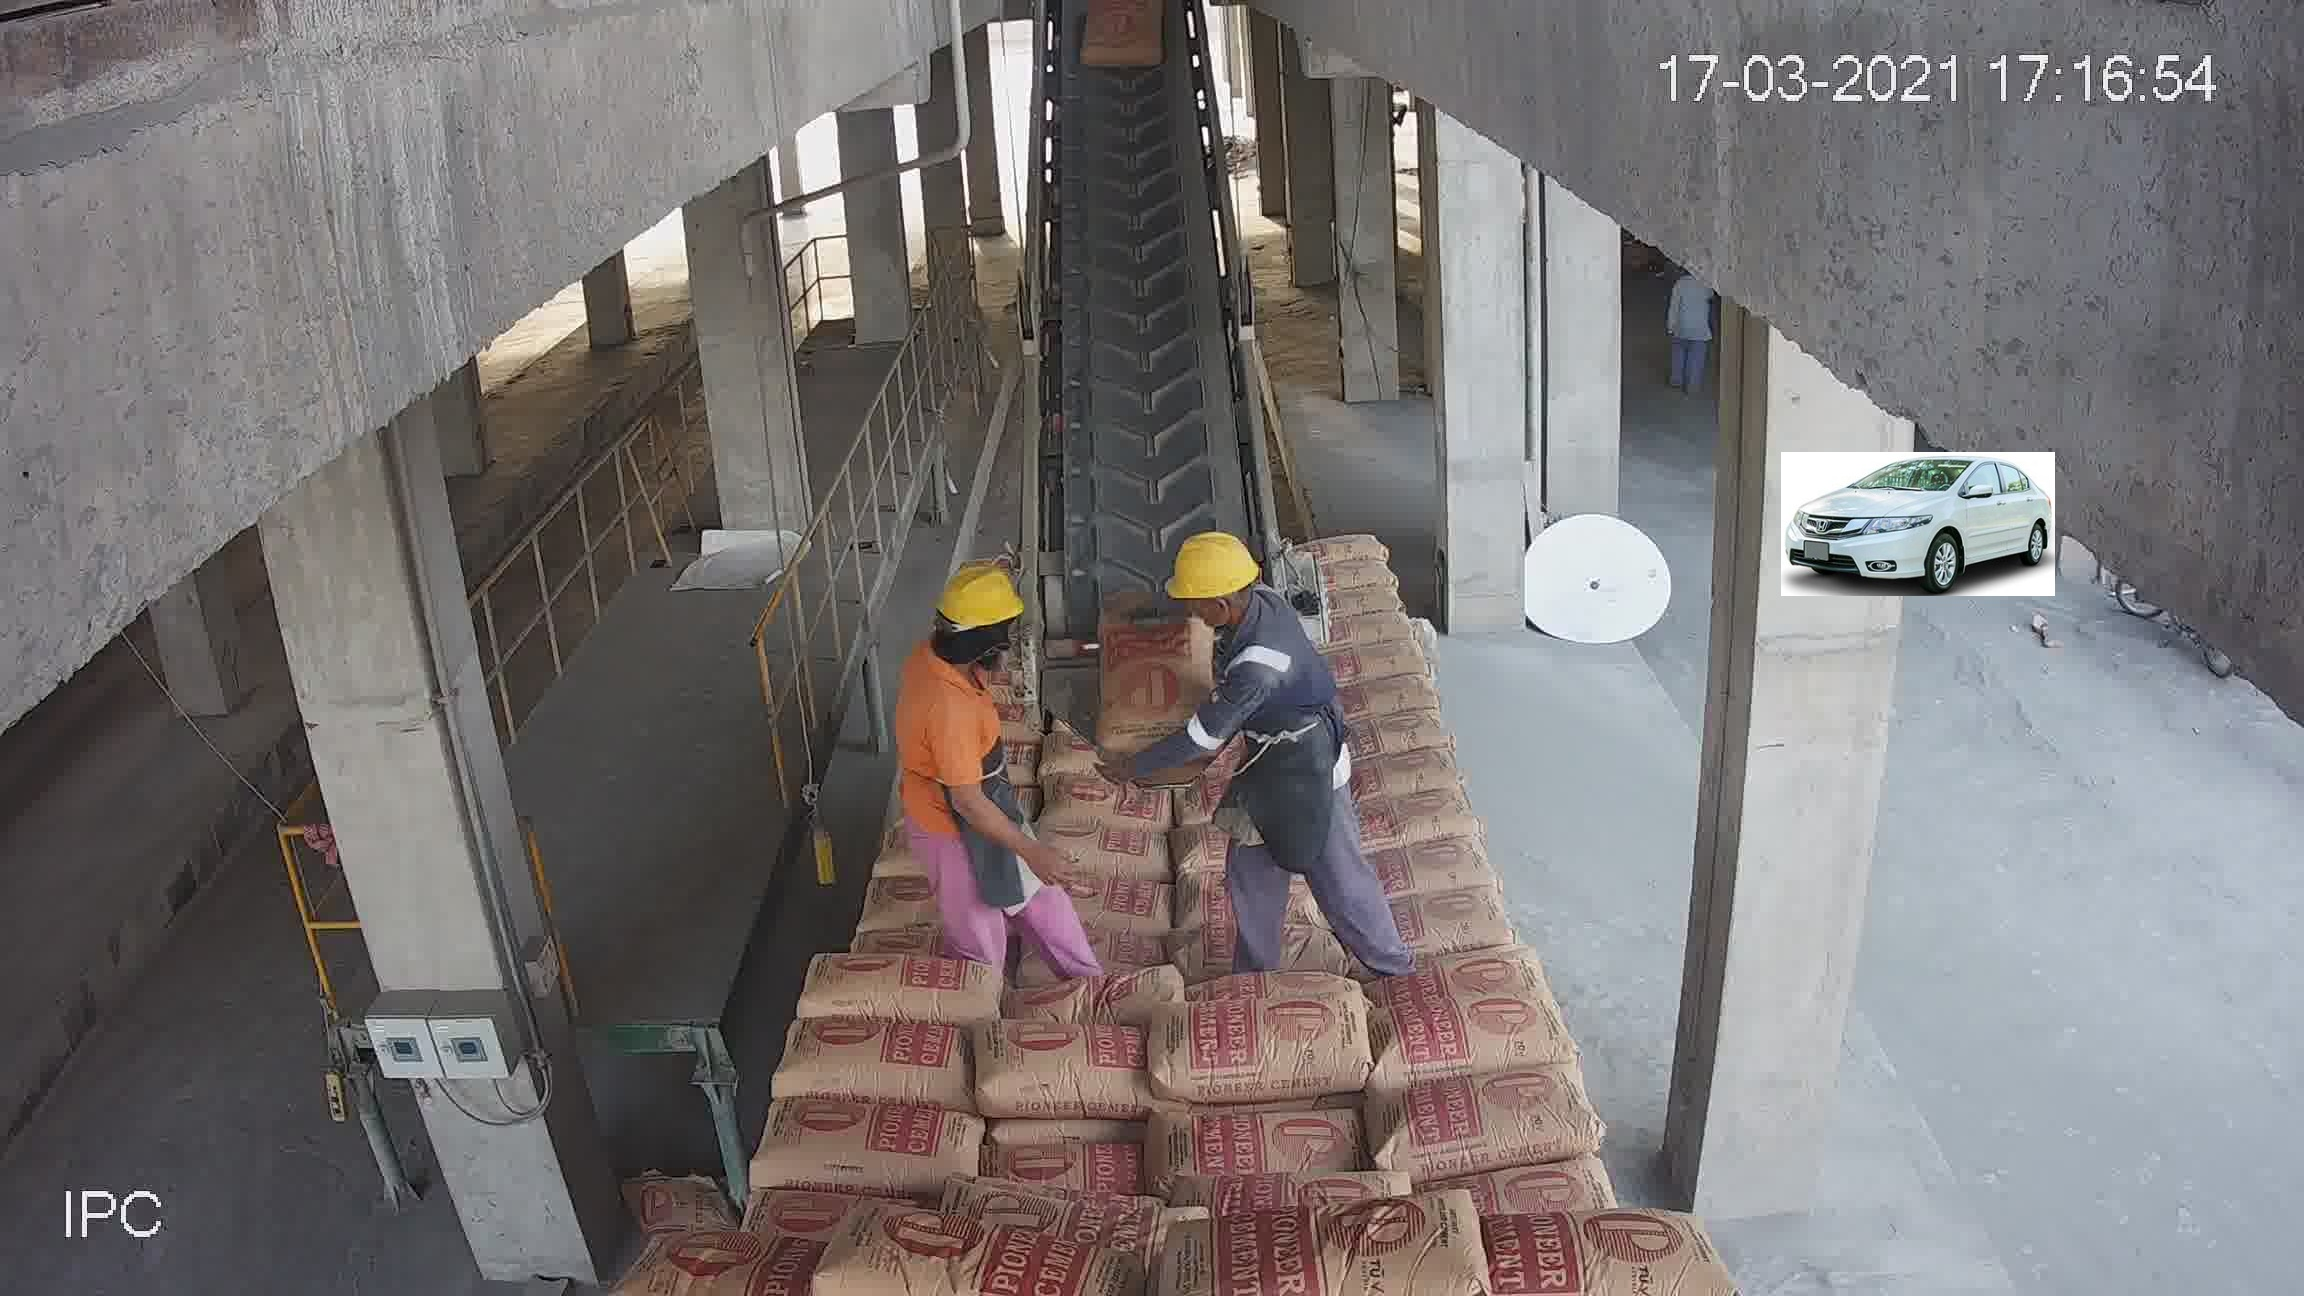bag: (1097, 611, 1212, 731)
bag_h: (1196, 1188, 1505, 1294), (783, 1212, 1139, 1296), (1158, 991, 1383, 1105), (1445, 1203, 1711, 1296), (748, 1101, 994, 1199), (1377, 1079, 1589, 1192), (972, 1013, 1157, 1135), (1367, 1002, 1584, 1093), (1160, 1109, 1366, 1196), (774, 1025, 970, 1105), (798, 953, 991, 1024), (639, 1231, 839, 1294), (1025, 818, 1184, 888), (1389, 889, 1525, 967), (994, 1143, 1161, 1199), (1372, 961, 1533, 1019), (1040, 769, 1171, 837), (1380, 836, 1495, 904), (1070, 869, 1171, 942), (1372, 783, 1476, 851), (848, 870, 953, 937), (1355, 748, 1465, 798), (1359, 673, 1440, 722), (1366, 707, 1442, 758), (1348, 635, 1431, 680), (1317, 557, 1400, 595), (1305, 530, 1385, 559)
belt: (1025, 17, 1277, 723)
